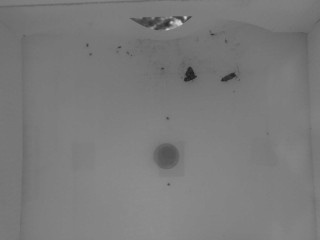insect: (181, 64, 198, 83), (219, 70, 239, 84)
